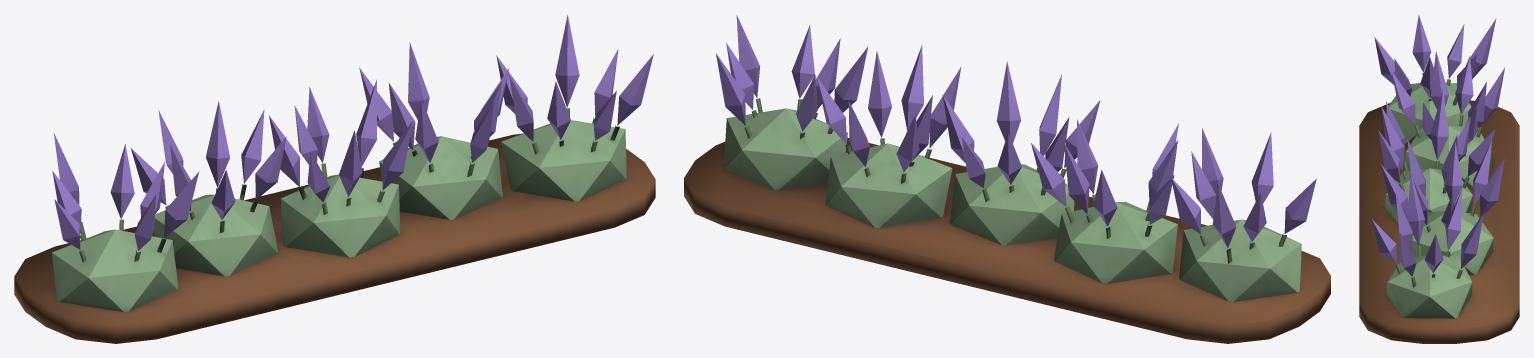
Rendered from lavender_row.glb.
3 views of the same model, side by side, from view 1: azimuth 30°, elevation 25°; view 2: azimuth 150°, elevation 25°; view 3: azimuth 270°, elevation 25° (orthographic). The views are drawn at different scales.
Parts seen in each view (by area): view 1: lavender_row; view 2: lavender_row; view 3: lavender_row.
Part boxes in pixels (bbox=[...]): lavender_row: bbox=[14, 14, 655, 343]; lavender_row: bbox=[684, 15, 1330, 343]; lavender_row: bbox=[1359, 14, 1519, 343].
Size of the model in its own units: 1.7 by 0.4011 by 0.5.
Materials: 4 (4 with a texture image).
